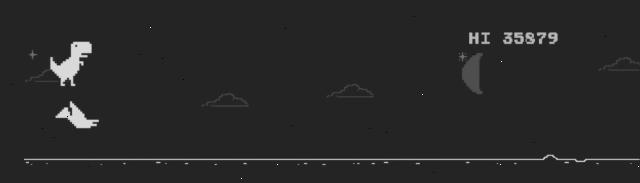bird: (56, 102, 98, 128)
dinosaur: (50, 42, 91, 86)
moon: (463, 54, 482, 94)
